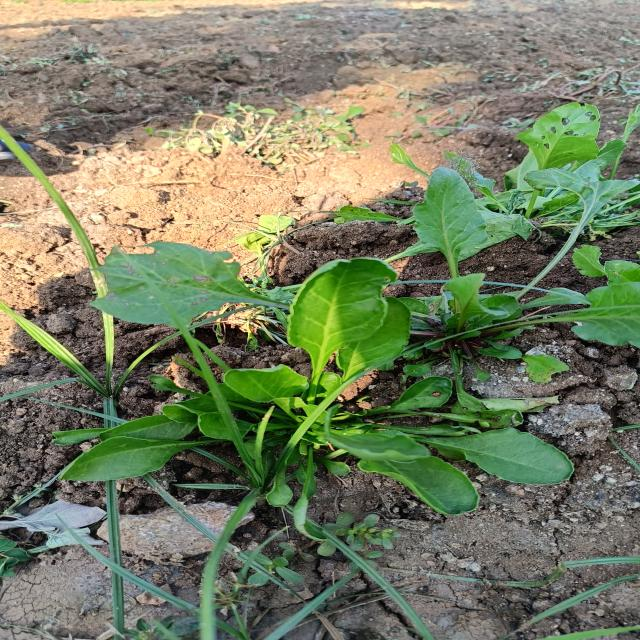leaves: (64, 225, 382, 364), (264, 238, 400, 424), (362, 407, 612, 501), (284, 421, 495, 529), (391, 165, 533, 315), (508, 98, 626, 206), (53, 434, 249, 496), (108, 391, 296, 445), (213, 354, 339, 412), (421, 280, 513, 346)
